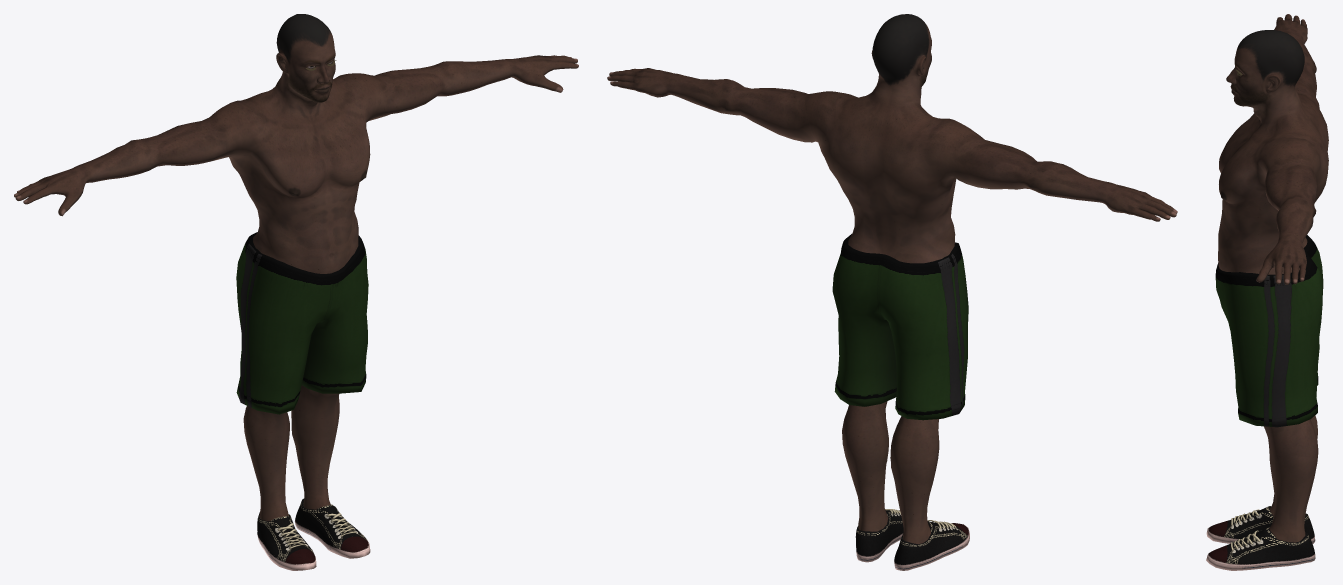
Rendered from character.obj.
The picture shows the model from 3 angles, left to right: view 1: azimuth 30°, elevation 25°; view 2: azimuth 150°, elevation 25°; view 3: azimuth 270°, elevation 25°; orthographic projection. The views are drawn at different scales.
Parts seen in each view (by area): view 1: Body, Bottoms, Shoes; view 2: Body, Bottoms, Shoes; view 3: Body, Bottoms, Shoes.
Part boxes in pixels (x1,y1,x2,y2): Body: [14, 14, 578, 521]; Bottoms: [236, 232, 368, 414]; Shoes: [257, 498, 370, 570]; Body: [607, 14, 1177, 544]; Bottoms: [832, 234, 968, 420]; Shoes: [855, 509, 969, 570]; Body: [1218, 14, 1328, 542]; Bottoms: [1215, 235, 1323, 427]; Shoes: [1206, 506, 1315, 570].
Size of the model in its own units: 197 by 176 by 37.82.
3 materials, 3 textured.
